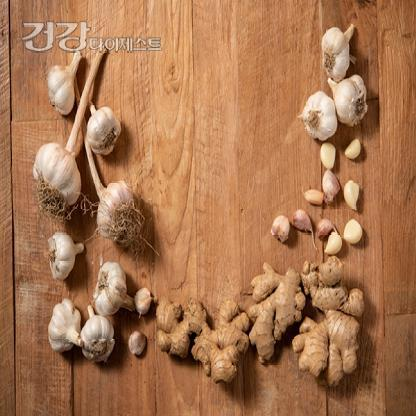garlic: (30, 143, 82, 216), (94, 192, 150, 247), (43, 307, 82, 362), (42, 56, 76, 117), (87, 99, 123, 154), (42, 236, 90, 275), (97, 266, 130, 320), (82, 318, 116, 370), (332, 82, 370, 126), (304, 94, 338, 138), (326, 32, 357, 80), (292, 208, 316, 238), (346, 211, 362, 249), (323, 172, 343, 202), (131, 325, 146, 363), (326, 226, 342, 260), (134, 288, 152, 318), (320, 142, 336, 172), (318, 212, 334, 238), (345, 181, 359, 210), (273, 214, 287, 242), (305, 188, 325, 205), (346, 141, 362, 162)
